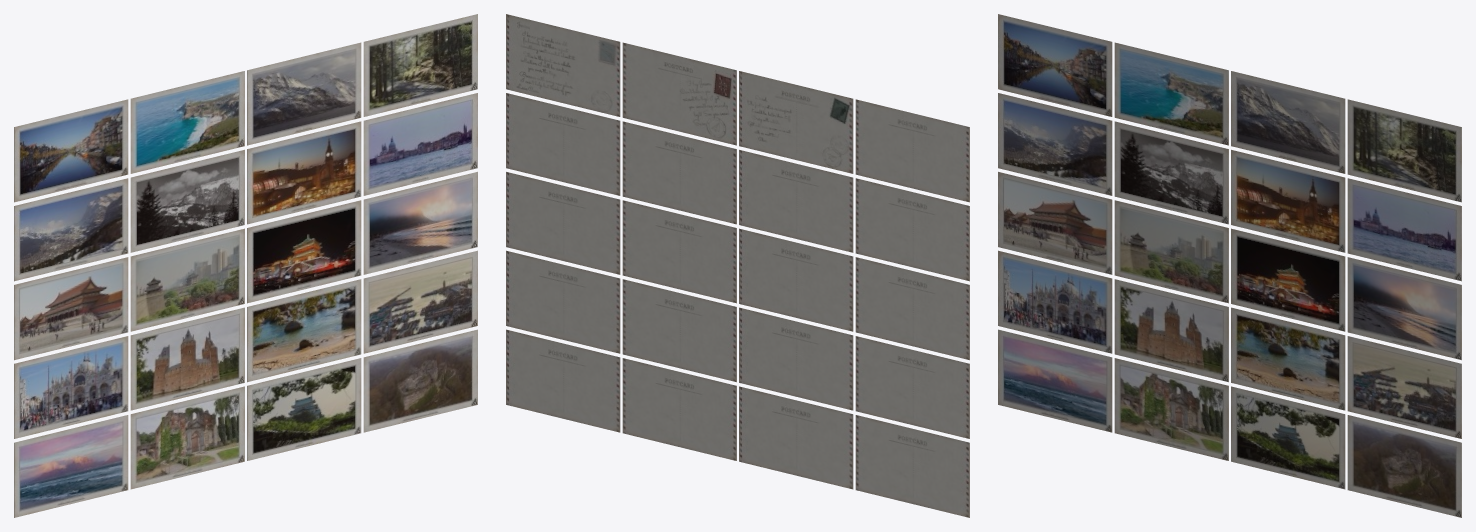
The model's file is ph2_postcard_set_01.glb.
3 renders of one model, left to right at view 1: azimuth 30°, elevation 25°; view 2: azimuth 150°, elevation 25°; view 3: azimuth 330°, elevation 25°, orthographic.
Bounding box in the file's own units: 0.6767 × 0.545 × 0.000124.
1 material, 1 textured.
